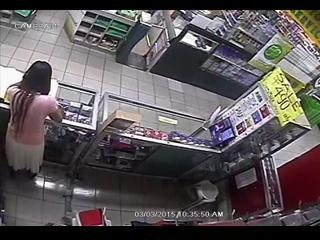Normal: (3, 60, 65, 181)
